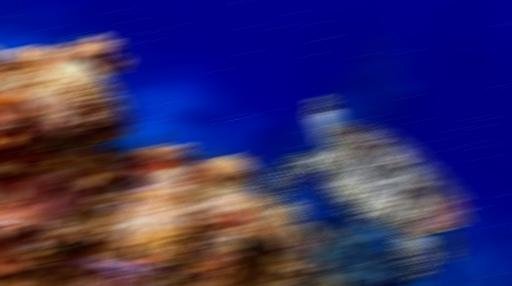Fish: (264, 96, 469, 281)
